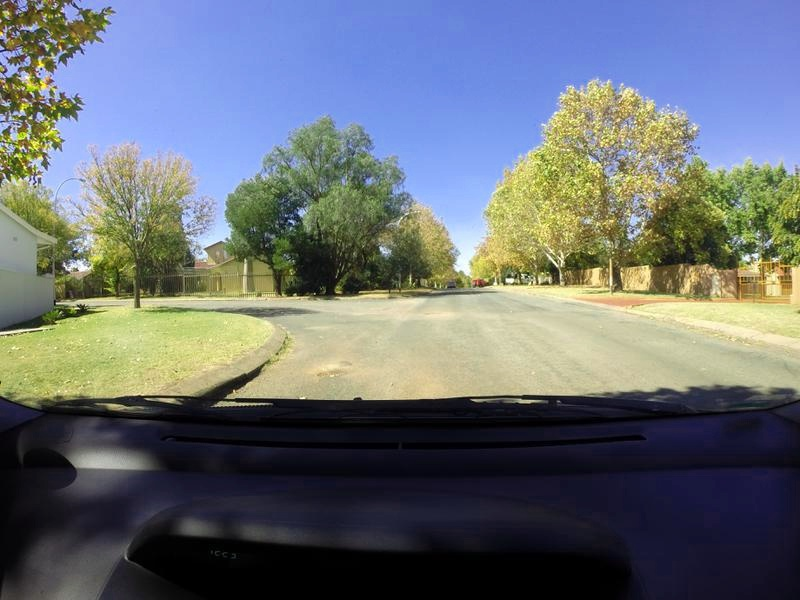pothole: (312, 357, 350, 385)
